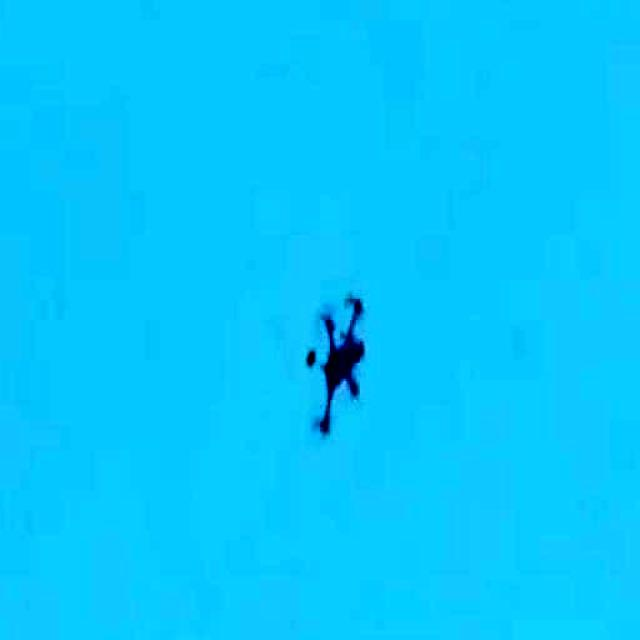bird: (296, 281, 372, 444)
